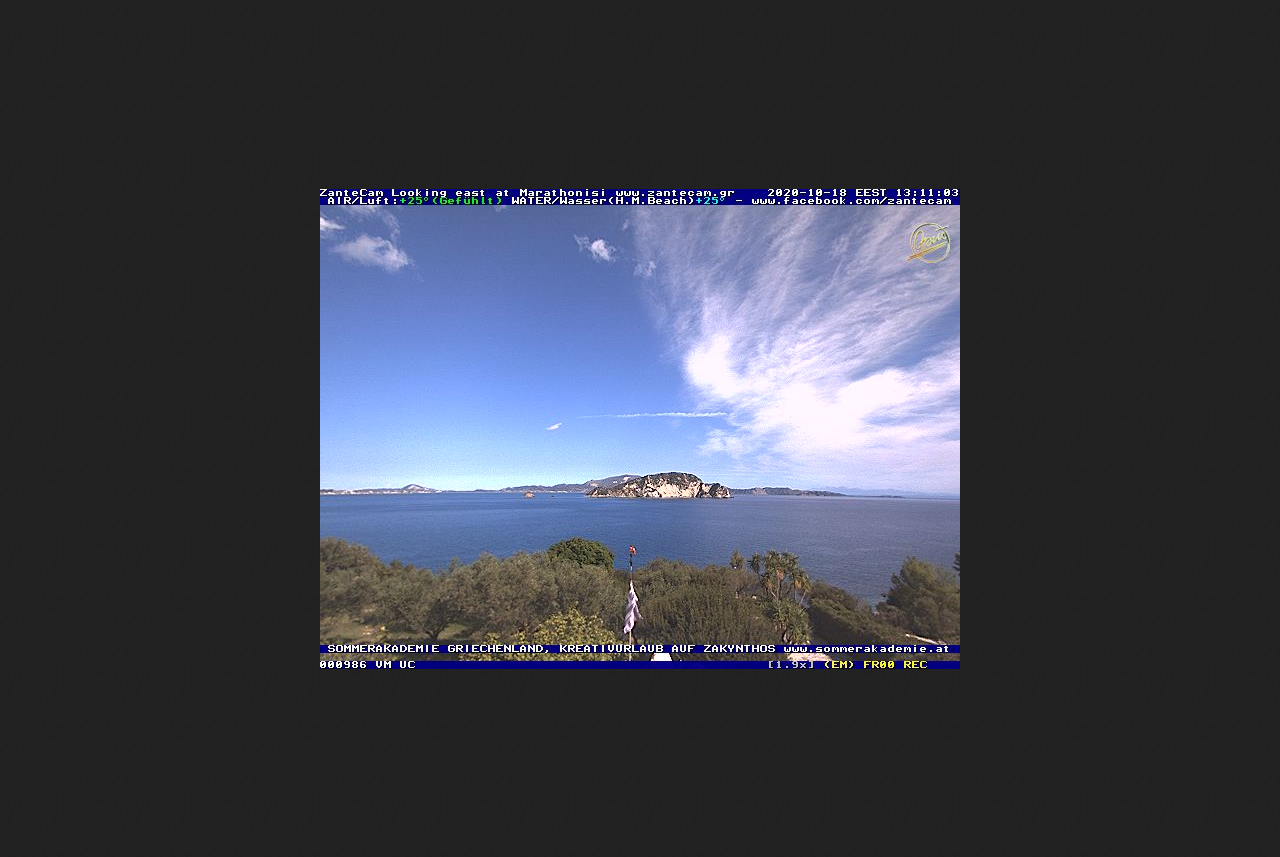no: (622, 580, 639, 634)
